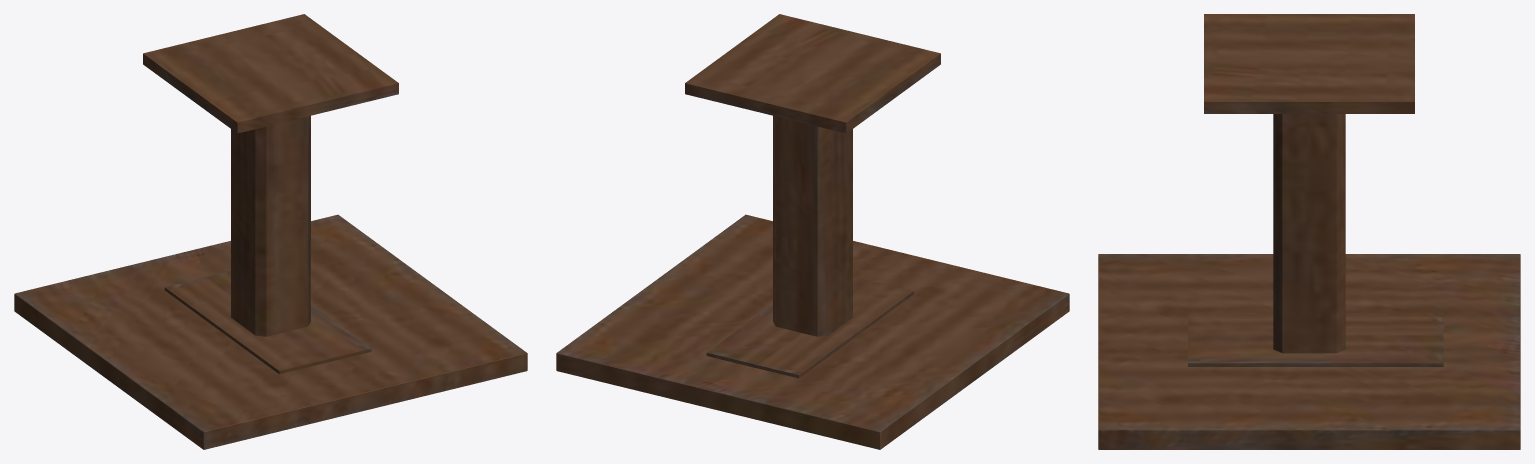
File: table_0.glb
The picture shows the model from 3 angles, left to right: view 1: azimuth 30°, elevation 25°; view 2: azimuth 150°, elevation 25°; view 3: azimuth 270°, elevation 25°; orthographic projection. The views are drawn at different scales.
Visible parts, largest first — view 1: table_0; view 2: table_0; view 3: table_0.
Part boxes in pixels (left/top/right/bottom): table_0: left=14, top=14, right=527, bottom=449; table_0: left=556, top=14, right=1069, bottom=449; table_0: left=1098, top=14, right=1520, bottom=449.
Bounding box in the file's own units: 1.16 × 0.9353 × 1.18.
Materials: 1 (1 with a texture image).
